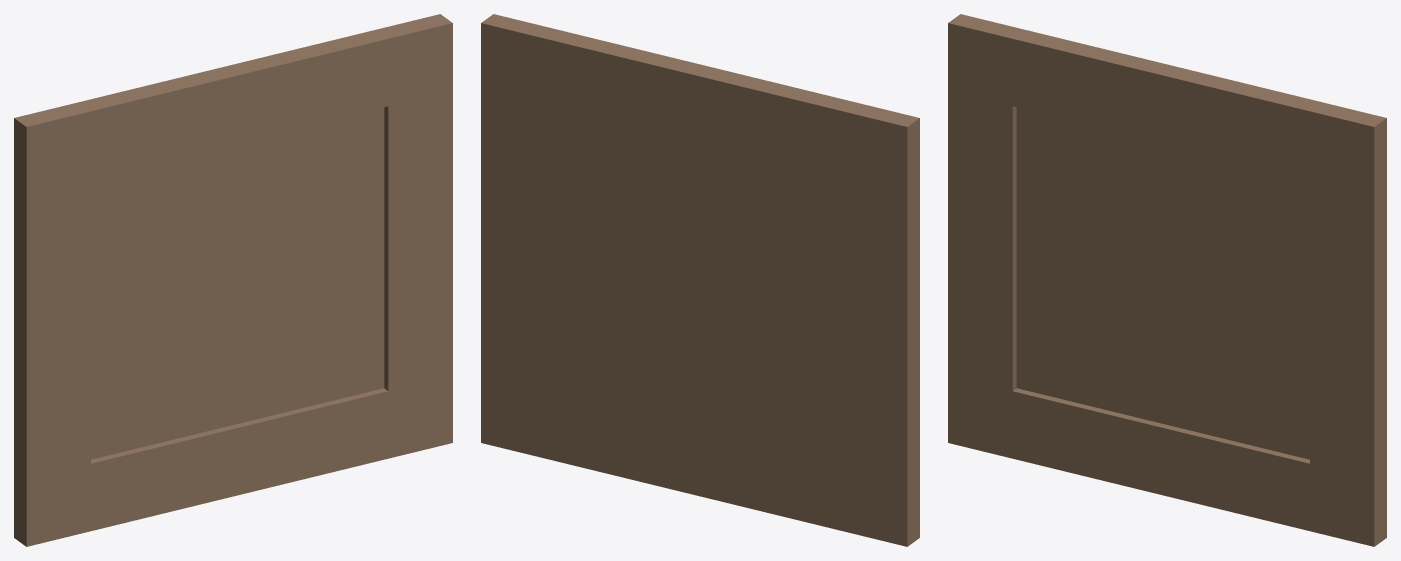
Rendered from drawer_front_08.obj.
3 renders of one model, left to right at view 1: azimuth 30°, elevation 25°; view 2: azimuth 150°, elevation 25°; view 3: azimuth 330°, elevation 25°, orthographic.
Parts seen in each view (by area): view 1: drawer_front_08; view 2: drawer_front_08; view 3: drawer_front_08.
Boxes of the visible parts, left/top/right/bottom form: drawer_front_08: left=14, top=14, right=452, bottom=546; drawer_front_08: left=481, top=14, right=919, bottom=546; drawer_front_08: left=948, top=14, right=1386, bottom=546.
Size of the model in its own units: 378 by 356 by 19.05.
